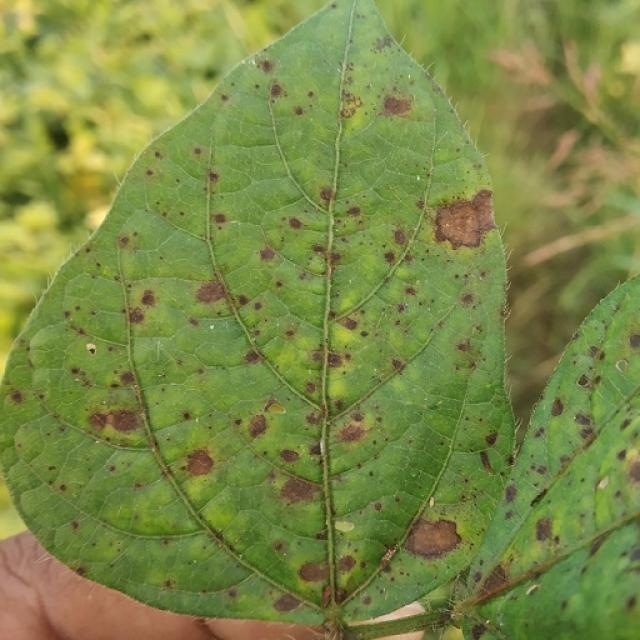Anthracnose: (268, 188, 382, 289), (434, 177, 499, 249), (432, 188, 500, 250), (403, 515, 463, 557), (443, 577, 481, 625), (89, 408, 146, 437), (277, 473, 322, 505), (320, 456, 337, 529), (318, 600, 349, 637), (477, 562, 510, 595), (183, 449, 215, 478), (622, 446, 640, 487), (298, 560, 330, 583), (337, 421, 368, 444), (382, 94, 413, 117), (202, 278, 229, 304), (339, 91, 364, 119), (272, 593, 302, 613), (247, 414, 269, 440), (589, 532, 609, 557), (534, 516, 553, 541), (529, 485, 549, 507), (263, 398, 287, 415), (337, 555, 357, 574), (373, 35, 394, 53), (479, 450, 494, 473), (278, 448, 300, 463), (127, 306, 145, 324), (338, 315, 358, 331), (471, 622, 488, 639), (140, 289, 156, 307), (573, 412, 592, 427), (504, 484, 518, 504), (551, 398, 565, 417), (259, 246, 276, 261), (333, 587, 348, 604), (334, 520, 355, 532), (322, 586, 334, 607), (120, 370, 136, 385), (258, 58, 273, 74), (392, 229, 406, 246), (576, 373, 591, 388), (269, 82, 284, 97), (319, 188, 334, 202), (9, 389, 23, 404), (484, 431, 498, 446), (206, 169, 219, 185), (615, 359, 628, 374), (625, 594, 636, 611), (212, 213, 227, 225), (383, 251, 396, 264), (288, 217, 302, 229), (460, 293, 474, 305), (85, 342, 97, 355), (347, 206, 361, 217), (616, 447, 627, 461), (319, 436, 327, 455), (118, 236, 130, 247), (633, 333, 640, 349), (75, 566, 86, 576), (294, 106, 304, 116), (220, 93, 229, 102), (154, 151, 162, 159), (146, 169, 154, 176), (307, 91, 314, 98)
Blackgram: (0, 0, 514, 624)
